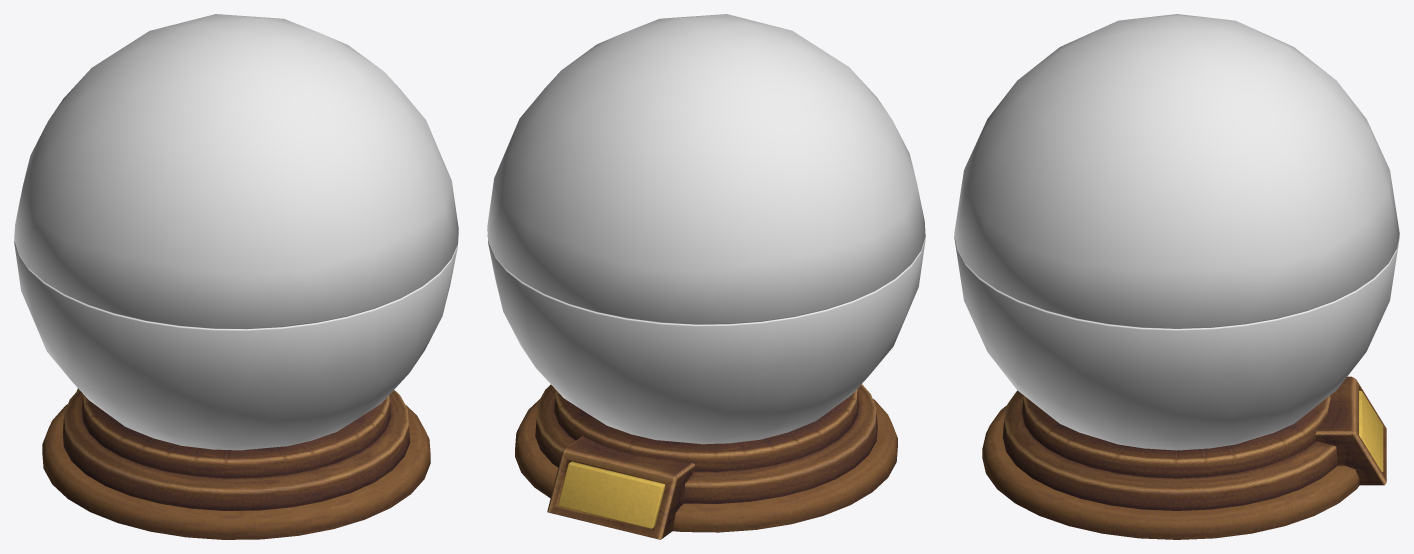
Rendered from Level_P_49.fbx.
3 views of the same model, side by side, from view 1: azimuth 30°, elevation 25°; view 2: azimuth 150°, elevation 25°; view 3: azimuth 270°, elevation 25° (orthographic).
Parts seen in each view (by area): view 1: glass.001, glass, Wood.005, Wood.001, Wood.004; view 2: glass.001, glass, Wood.005, Wood.001, Wood.004, Wood.003, Wood.002; view 3: glass.001, glass, Wood.005, Wood.001, Wood.004, Wood.003, Wood.002.
Boxes of the visible parts, bbox=[...] form: glass.001: bbox=[14, 14, 458, 329]; glass: bbox=[14, 235, 458, 450]; Wood.005: bbox=[42, 404, 430, 539]; Wood.001: bbox=[62, 389, 410, 510]; Wood.004: bbox=[82, 394, 390, 478]; glass.001: bbox=[487, 14, 925, 324]; glass: bbox=[487, 229, 925, 444]; Wood.005: bbox=[515, 399, 897, 532]; Wood.001: bbox=[535, 384, 877, 503]; Wood.004: bbox=[554, 389, 858, 471]; Wood.003: bbox=[547, 436, 695, 539]; Wood.002: bbox=[558, 461, 665, 528]; glass.001: bbox=[954, 14, 1399, 328]; glass: bbox=[954, 236, 1399, 450]; Wood.005: bbox=[982, 405, 1359, 539]; Wood.001: bbox=[1002, 390, 1337, 510]; Wood.004: bbox=[1022, 395, 1330, 478]; Wood.003: bbox=[1315, 376, 1386, 485]; Wood.002: bbox=[1359, 390, 1383, 472].
Bounding box in the file's own units: 8.97 × 9.42 × 8.97.
